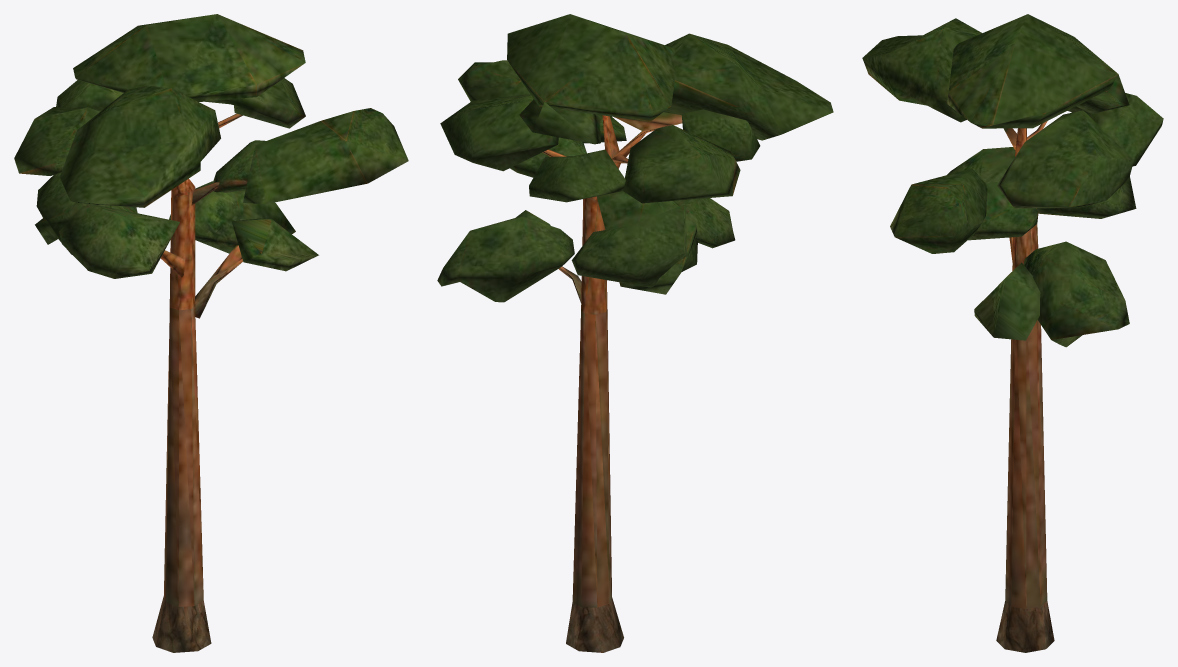
File: tree-pine-01.glb
3 views of the same model, side by side, from view 1: azimuth 30°, elevation 25°; view 2: azimuth 150°, elevation 25°; view 3: azimuth 270°, elevation 25° (orthographic). The views are drawn at different scales.
Bounding box in the file's own units: 0.5635 × 0.9531 × 0.4263.
1 material, 1 textured.
